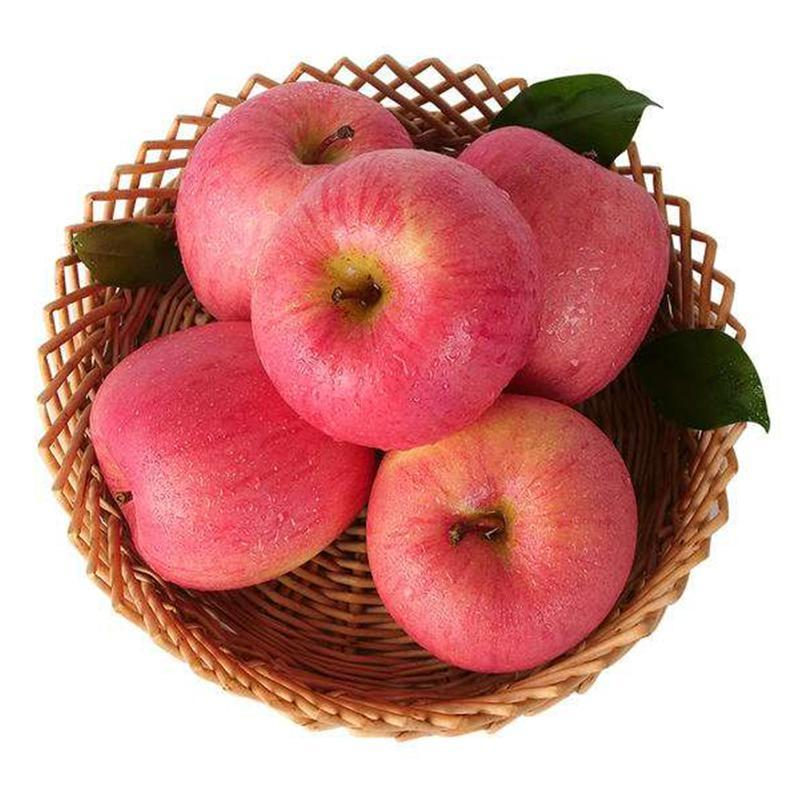apple: (246, 143, 544, 450), (86, 319, 376, 591), (370, 400, 636, 677), (451, 123, 669, 404), (175, 78, 417, 320)
